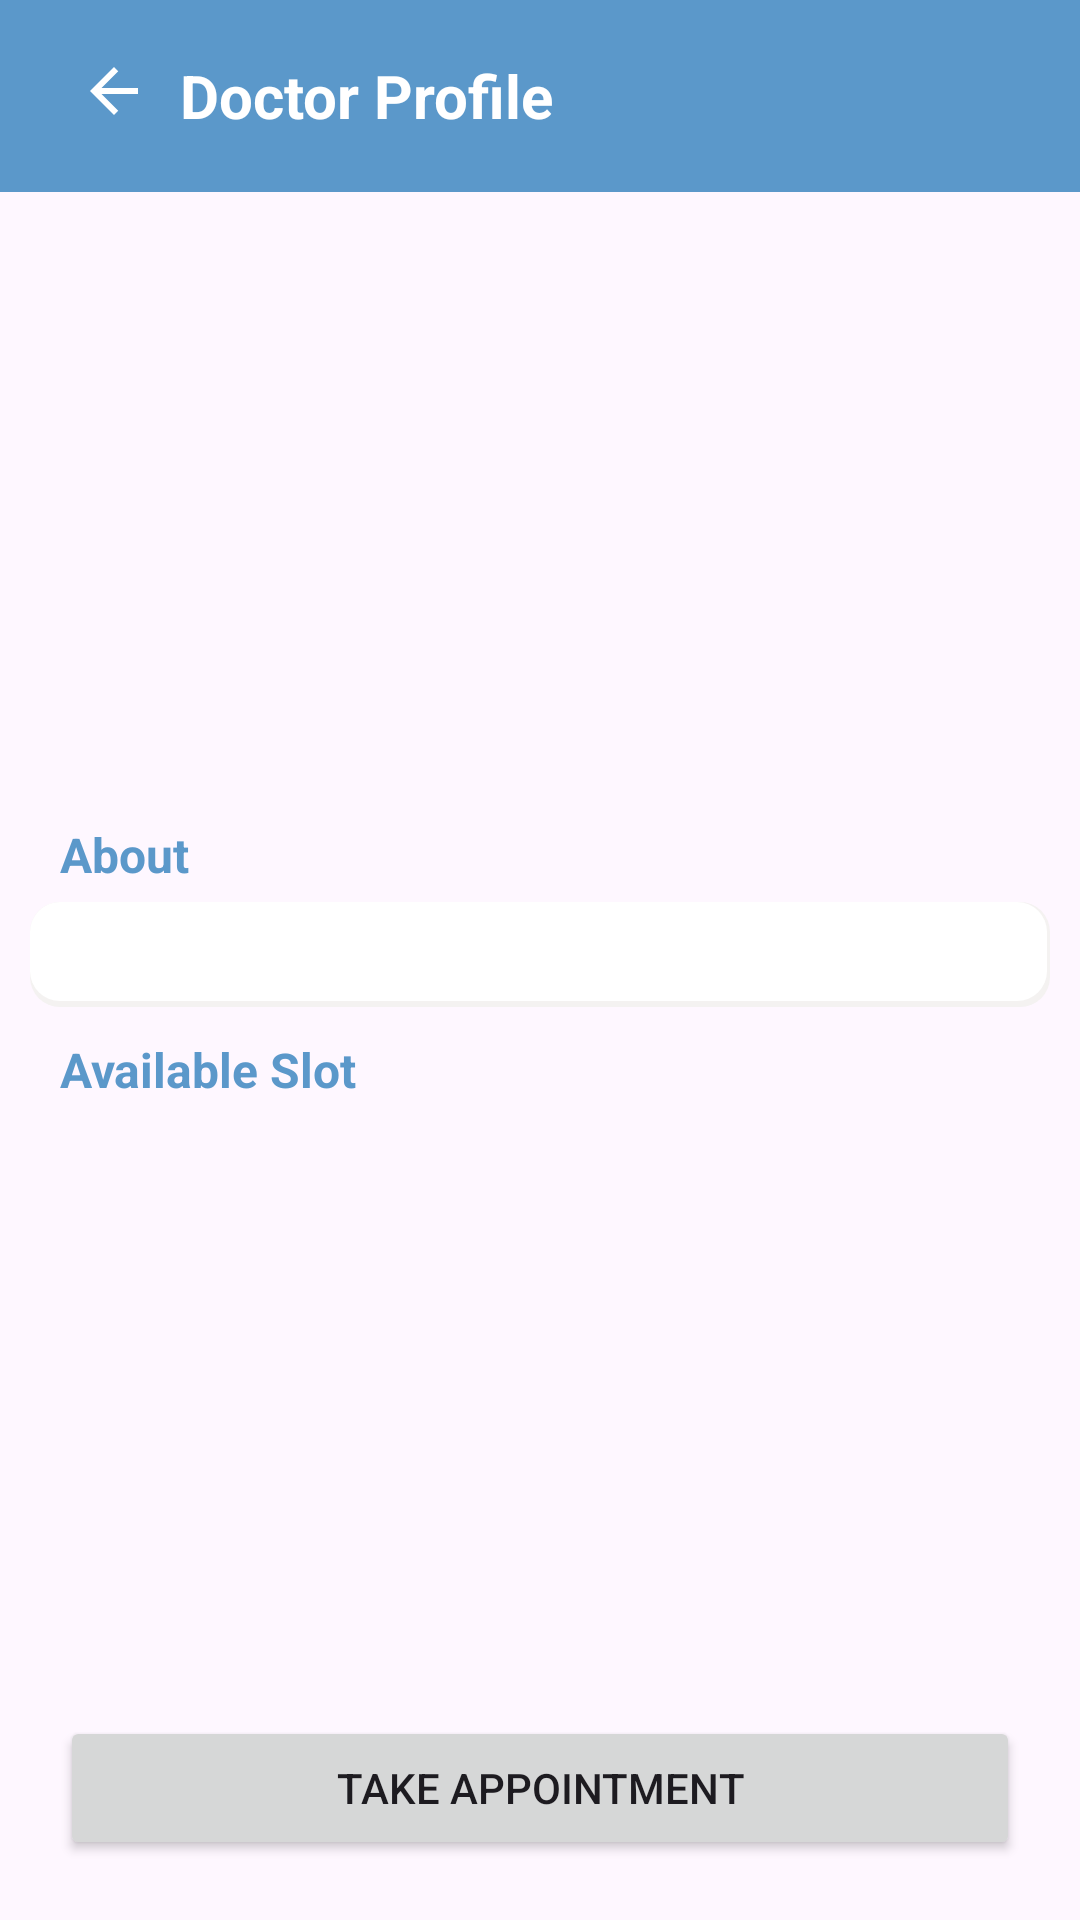

Screen size 1080w x 1920h. Icon name, then its center in pixels as point (x, y):
back arrow: point (114, 91)
